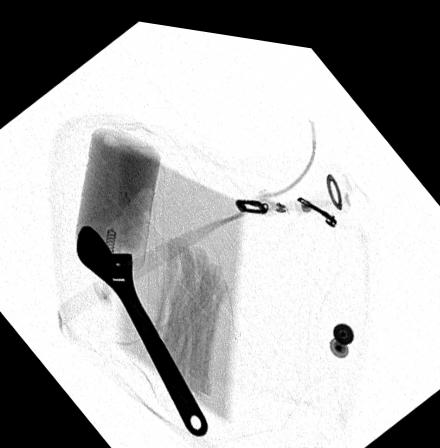Wrench: (74, 220, 209, 432)
